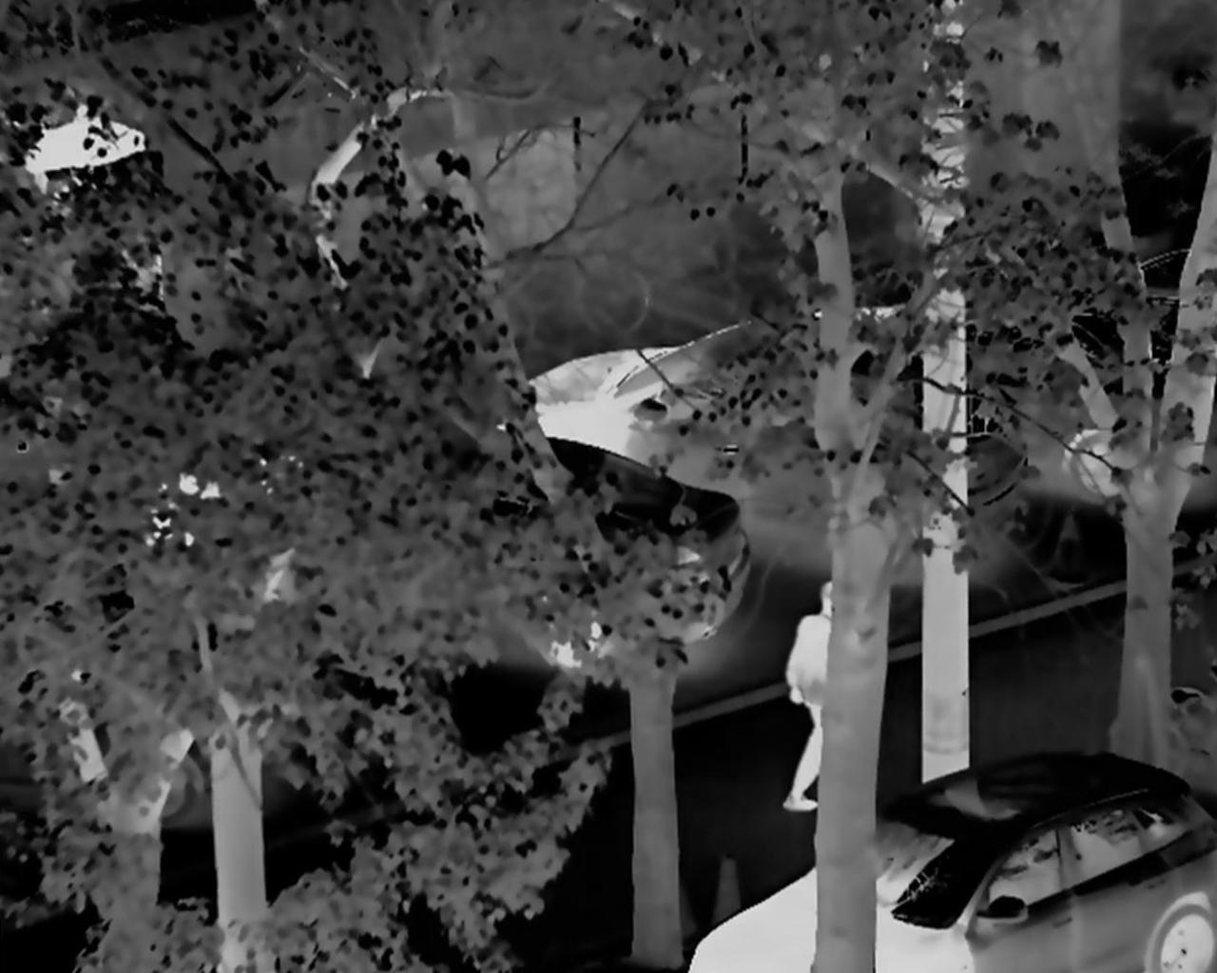person: (780, 583, 891, 818)
